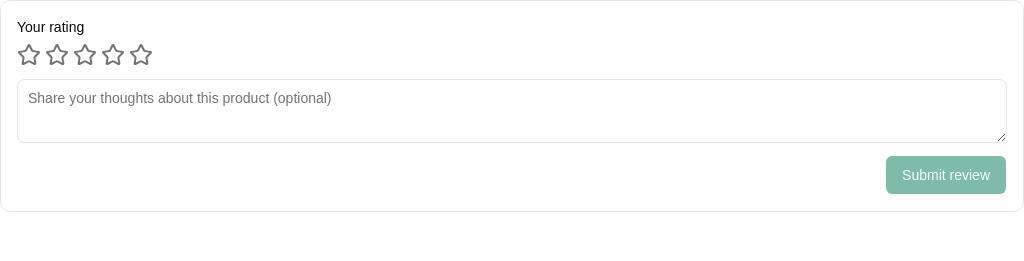
Test case: ReviewForm › shows the { message } error from a failed submit
Click the radio button named "2 stars" at (57, 55), box x1=45 y1=43 x2=69 y2=67
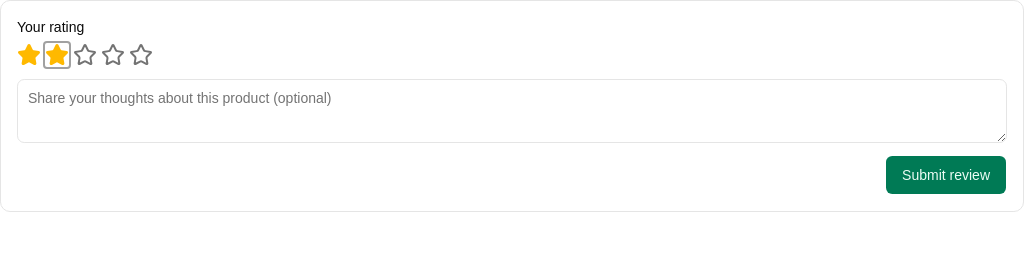
Click the button "Submit review" at (946, 175), box x1=885 y1=155 x2=1007 y2=195
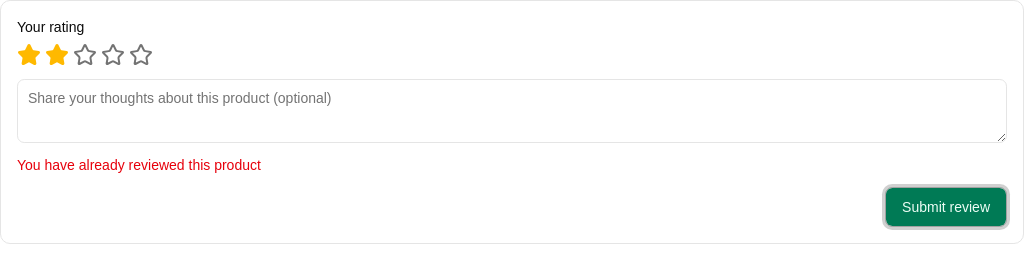
Now the message reads "You have already reviewed this product", box x1=17 y1=157 x2=261 y2=173
